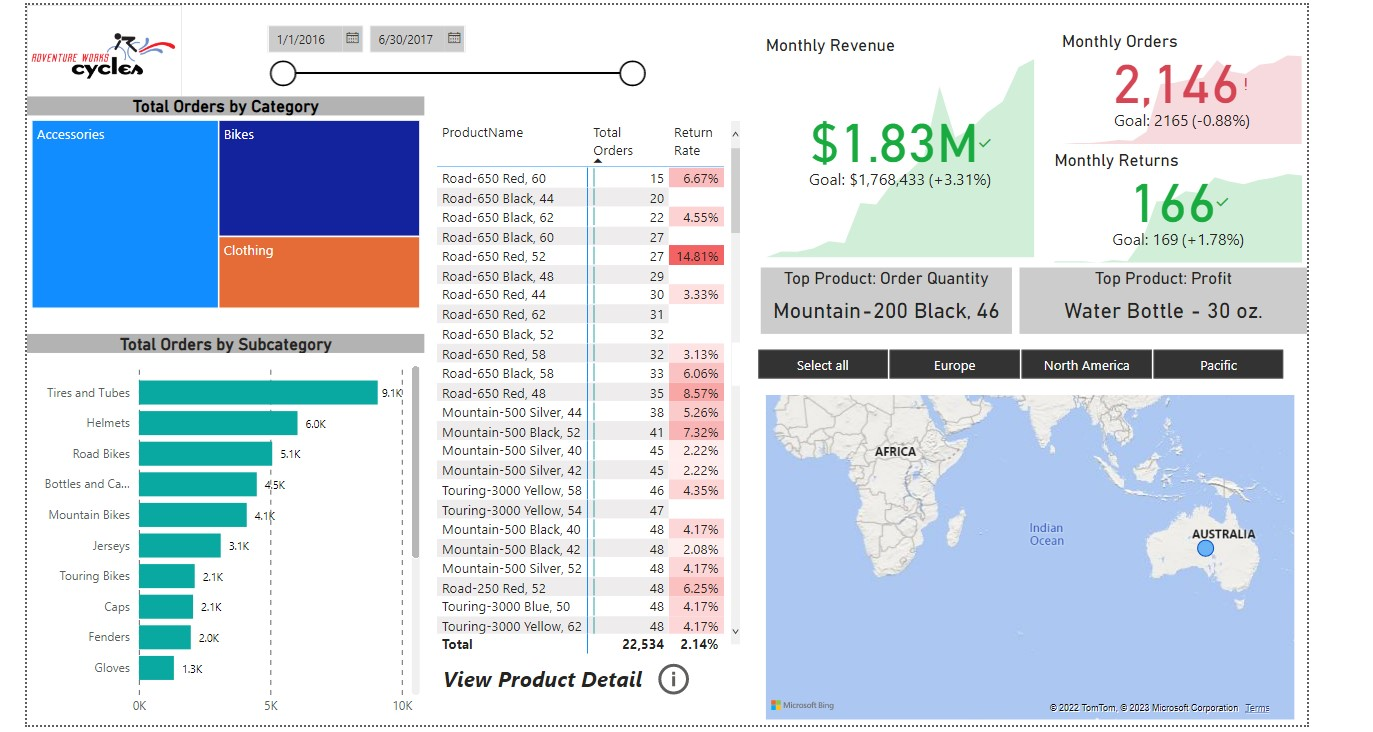

The page's visual inventory and layout, read from the dashboard file:
{"tool":"powerbi","page":{"name":"Exec Summary","canvas":[1280,720],"ordinal":0},"visuals":[{"type":"image","box":[0,0,154.4,101.1],"z":0},{"type":"barChart","title":"Total Orders by Subcategory","fields":{"Y":["AW_Sales.Total Orders"],"Category":["AW_Product_Subcategory_Lookup.SubcategoryName"]},"box":[0,328.9,397.8,391.1],"z":1000},{"type":"treemap","title":"Total Orders by Category","fields":{"Group":["AW_Product_Category_Lookup.CategoryName","AW_Product_Subcategory_Lookup.SubcategoryName"],"Values":["AW_Sales.Total Orders"]},"box":[0,91.1,397.8,216.7],"z":2000},{"type":"pivotTable","fields":{"Values":["AW_Sales.Total Orders","AW_Returns.Return Rate"],"Rows":["AW_Product_Category_Lookup.CategoryName","AW_Product_Subcategory_Lookup.SubcategoryName","AW_Product_Lookup.ProductName"]},"box":[405.6,111.1,313.3,542.2],"z":3000},{"type":"slicer","fields":{"Values":["AW_Calendar_Lookup.Date"]},"box":[227.8,10,398.9,75.6],"z":4000},{"type":"kpi","title":"Monthly Revenue","fields":{"Indicator":["AW_Sales.Revenue"],"TrendLine":["AW_Calendar_Lookup.Start_of_Month"],"Goal":["AW_Sales.Prev Month Revenue"]},"box":[733.3,30,278.9,227.8],"z":5000},{"type":"kpi","title":"Monthly Orders","fields":{"TrendLine":["AW_Calendar_Lookup.Start_of_Month"],"Indicator":["AW_Sales.Total Orders"],"Goal":["AW_Sales.Prev Month Orders"]},"box":[1030,26.7,250,117.8],"z":6000},{"type":"kpi","title":"Monthly Returns","fields":{"TrendLine":["AW_Calendar_Lookup.Start_of_Month"],"Indicator":["AW_Returns.Total Returns"],"Goal":["AW_Returns.Prev Month Returns"]},"box":[1022.2,144.4,257.8,117.8],"z":7000},{"type":"slicer","fields":{"Values":["AW_Territories_Lookup.Continent"]},"box":[704.4,337.8,575.6,43.3],"z":8000},{"type":"map","fields":{"Category":["AW_Territories_Lookup.Country"],"Size":["AW_Sales.Total Orders"]},"box":[733.3,385.6,538.9,334.4],"z":9000},{"type":"card","title":"Top Product: Profit","fields":{"Values":["Min(AW_Product_Lookup.ProductName)"]},"box":[992.2,262.2,287.8,66.7],"z":10000},{"type":"card","title":"Top Product: Order Quantity","fields":{"Values":["Min(AW_Product_Lookup.ProductName)"]},"box":[733.3,262.2,251.1,66.7],"z":11000},{"type":"textbox","box":[405.6,653.3,221.1,41.1],"z":12000},{"type":"actionButton","box":[626.7,653.3,62.2,41.1],"z":12001}]}

Visuals, with their boxes on the page's 1280x720 design canvas (x1, y1, x2, y2). These are canvas units, not pixel positions in the 1373x732 screenshot, which may show the page scaled, cropped or inside an application window:
image: {"x1": 0, "y1": 0, "x2": 154, "y2": 101}
"Total Orders by Subcategory" barChart: {"x1": 0, "y1": 329, "x2": 398, "y2": 720}
"Total Orders by Category" treemap: {"x1": 0, "y1": 91, "x2": 398, "y2": 308}
pivotTable - AW_Sales.Total Orders x AW_Returns.Return Rate: {"x1": 406, "y1": 111, "x2": 719, "y2": 653}
slicer - AW_Calendar_Lookup.Date: {"x1": 228, "y1": 10, "x2": 627, "y2": 86}
"Monthly Revenue" kpi: {"x1": 733, "y1": 30, "x2": 1012, "y2": 258}
"Monthly Orders" kpi: {"x1": 1030, "y1": 27, "x2": 1280, "y2": 144}
"Monthly Returns" kpi: {"x1": 1022, "y1": 144, "x2": 1280, "y2": 262}
slicer - AW_Territories_Lookup.Continent: {"x1": 704, "y1": 338, "x2": 1280, "y2": 381}
map - AW_Territories_Lookup.Country x AW_Sales.Total Orders: {"x1": 733, "y1": 386, "x2": 1272, "y2": 720}
"Top Product: Profit" card: {"x1": 992, "y1": 262, "x2": 1280, "y2": 329}
"Top Product: Order Quantity" card: {"x1": 733, "y1": 262, "x2": 984, "y2": 329}
textbox: {"x1": 406, "y1": 653, "x2": 627, "y2": 694}
actionButton: {"x1": 627, "y1": 653, "x2": 689, "y2": 694}
